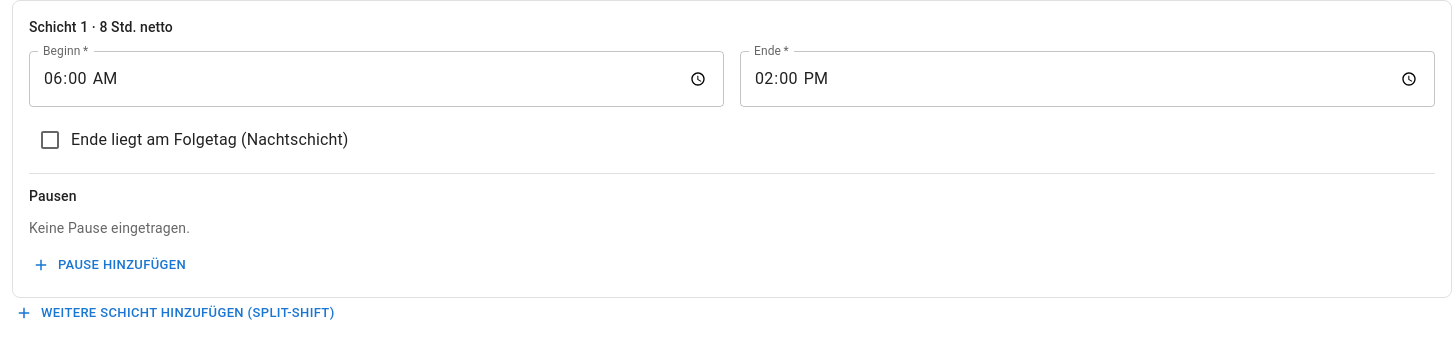
ShiftListEditor › shows "Keine Pause eingetragen." until a break is added, then adds one with a 30-minute default via "Pause hinzufügen"
expect the text "Keine Pause eingetragen." is shown: met, box x1=29 y1=220 x2=190 y2=236
Click the button "Pause hinzufügen" at (110, 265), box x1=29 y1=250 x2=191 y2=281
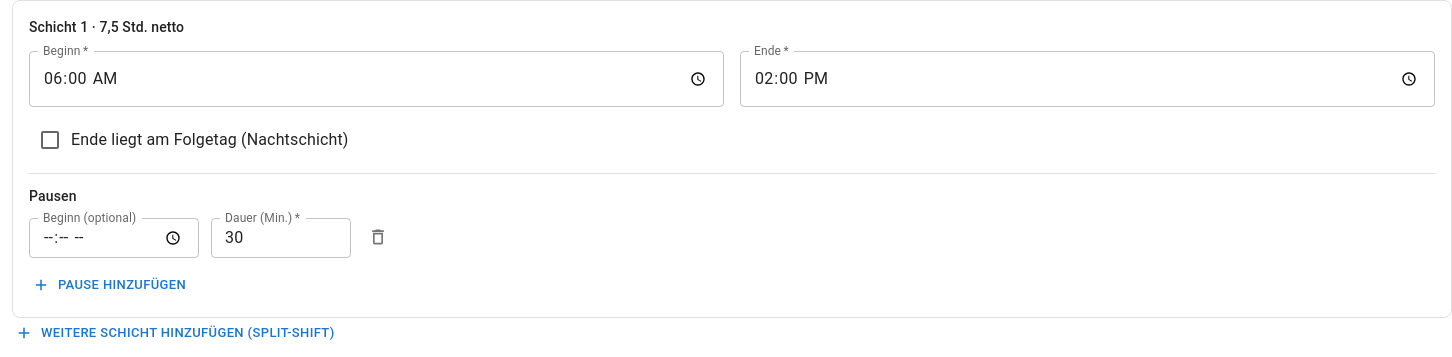
expect the text "Keine Pause eingetragen." is gone: met
expect the field labelled "Dauer (Min.) *" holds "30": met, box x1=211 y1=218 x2=351 y2=258
